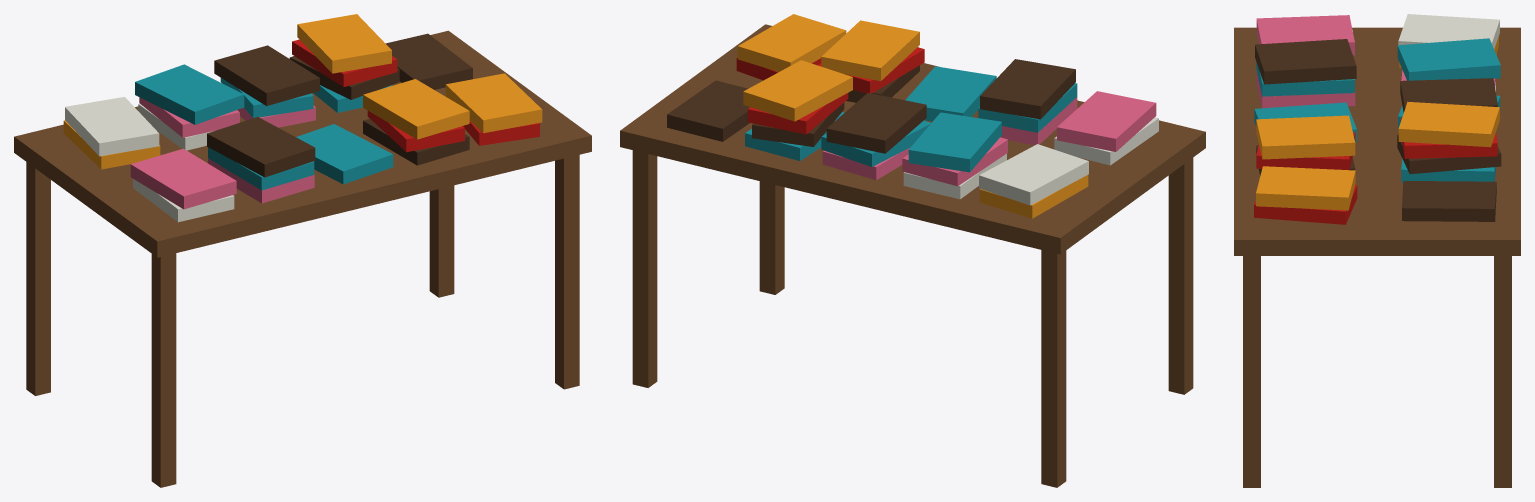
Rendered from book_table.glb.
3 views of the same model, side by side, from view 1: azimuth 30°, elevation 25°; view 2: azimuth 150°, elevation 25°; view 3: azimuth 270°, elevation 25° (orthographic).
Parts seen in each view (by area): view 1: book_table; view 2: book_table; view 3: book_table.
Boxes of the visible parts, left/top/right/bottom form: book_table: left=14, top=14, right=591, bottom=487; book_table: left=620, top=14, right=1205, bottom=487; book_table: left=1234, top=14, right=1520, bottom=487.
Bounding box in the file's own units: 1.4 × 0.94 × 0.8.
1 material, 1 textured.
